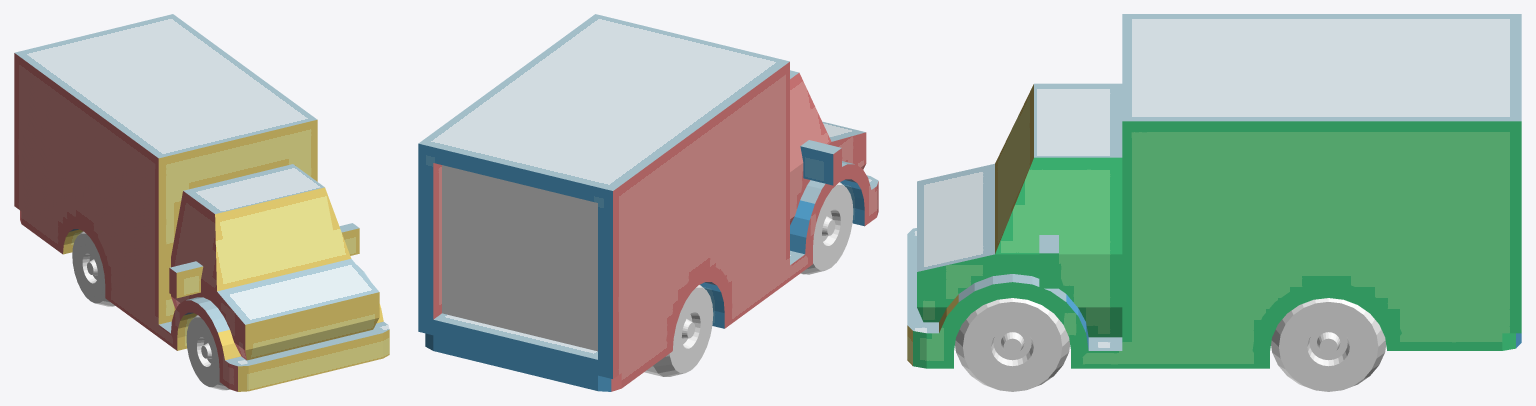
The model's file is delivery-van.gltf.
The picture shows the model from 3 angles, left to right: view 1: azimuth 30°, elevation 25°; view 2: azimuth 150°, elevation 25°; view 3: azimuth 270°, elevation 25°; orthographic projection. The views are drawn at different scales.
Parts seen in each view (by area): view 1: body, wheel_backRight, wheel_frontRight; view 2: body, door, wheel_backRight, wheel_frontRight; view 3: body, wheel_backLeft, wheel_frontLeft.
Part boxes in pixels (x1,y1,x2,y2): body: [14, 14, 389, 391]; wheel_backRight: [72, 231, 115, 306]; wheel_frontRight: [186, 315, 229, 390]; body: [418, 14, 878, 391]; door: [442, 165, 597, 351]; wheel_backRight: [644, 285, 713, 376]; wheel_frontRight: [800, 182, 853, 274]; body: [907, 14, 1521, 368]; wheel_backLeft: [1271, 298, 1386, 391]; wheel_frontLeft: [955, 298, 1069, 391].
Bounding box in the file's own units: 1.5 × 1.6 × 3.15.
Materials: 2 (1 with a texture image).
